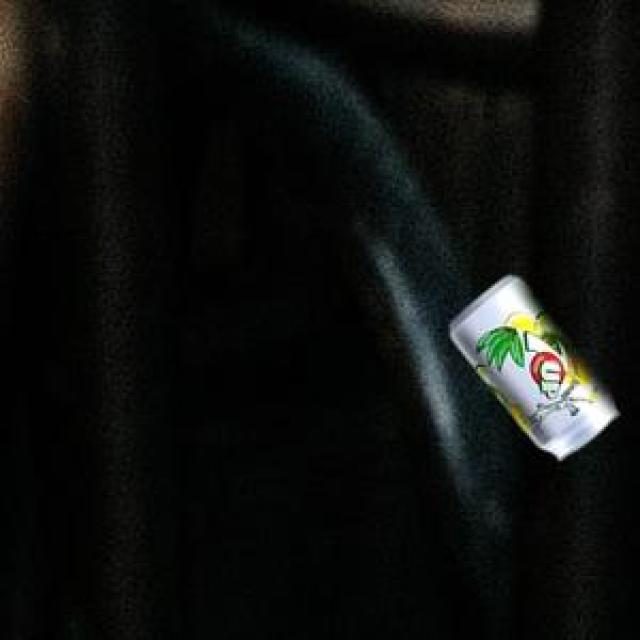logam: (447, 272, 613, 455)
